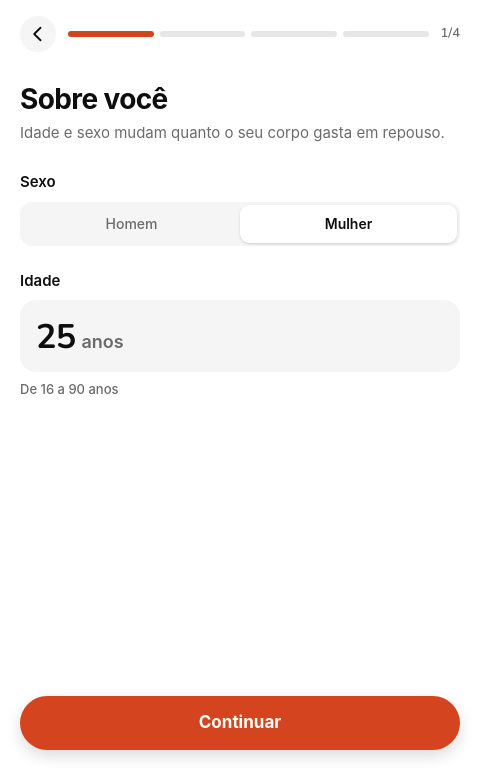
Test: Onboarding › com initial preenchido, abre com os valores do perfil e oferece sair para o Perfil
Expected: the field labelled "Idade" holds "25", [36, 314, 76, 360]
Click the button named "Voltar".
click(38, 34)  # box [20, 16, 56, 52]
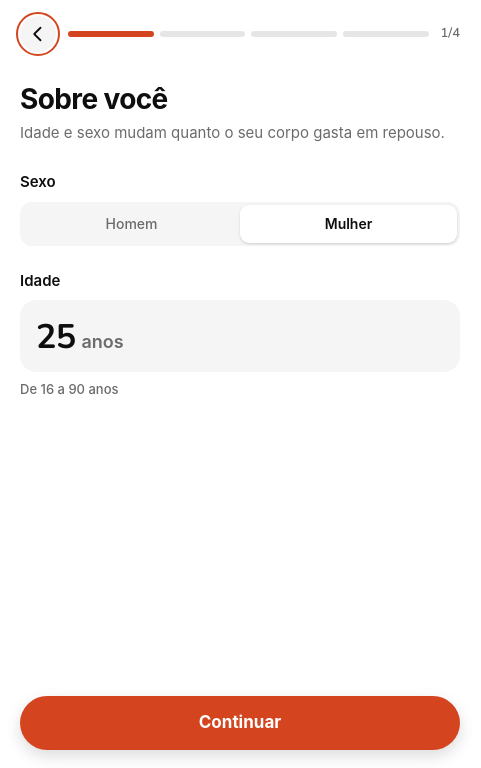
Click the button "Continuar".
click(240, 723)  # box [20, 696, 460, 750]
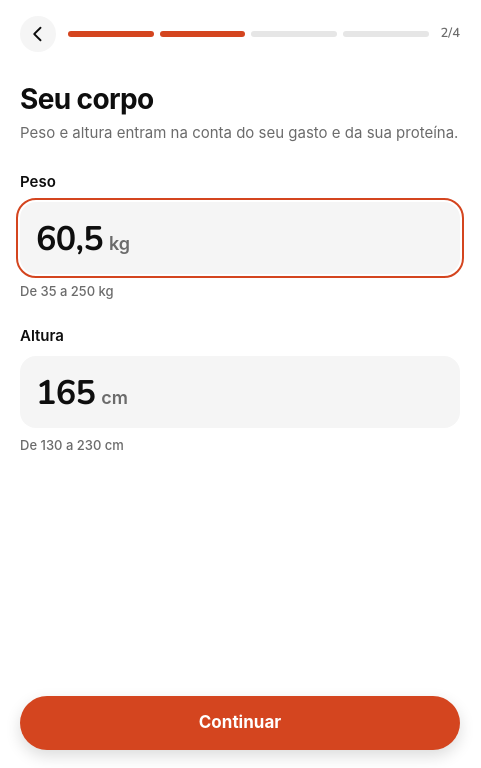
Now the field labelled "Peso" holds "60,5", box [36, 216, 103, 262]
